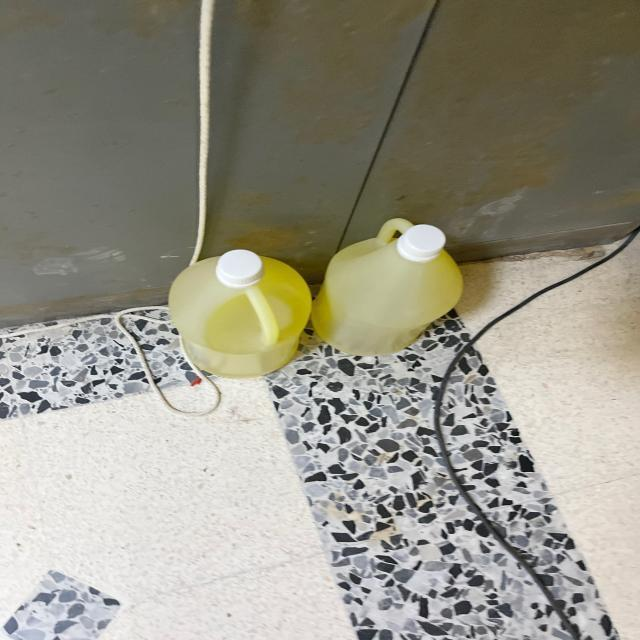HDPE Plastic: (319, 219, 465, 367), (158, 249, 312, 379)
